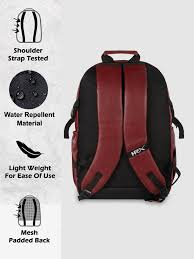backpack: (63, 49, 184, 202)
